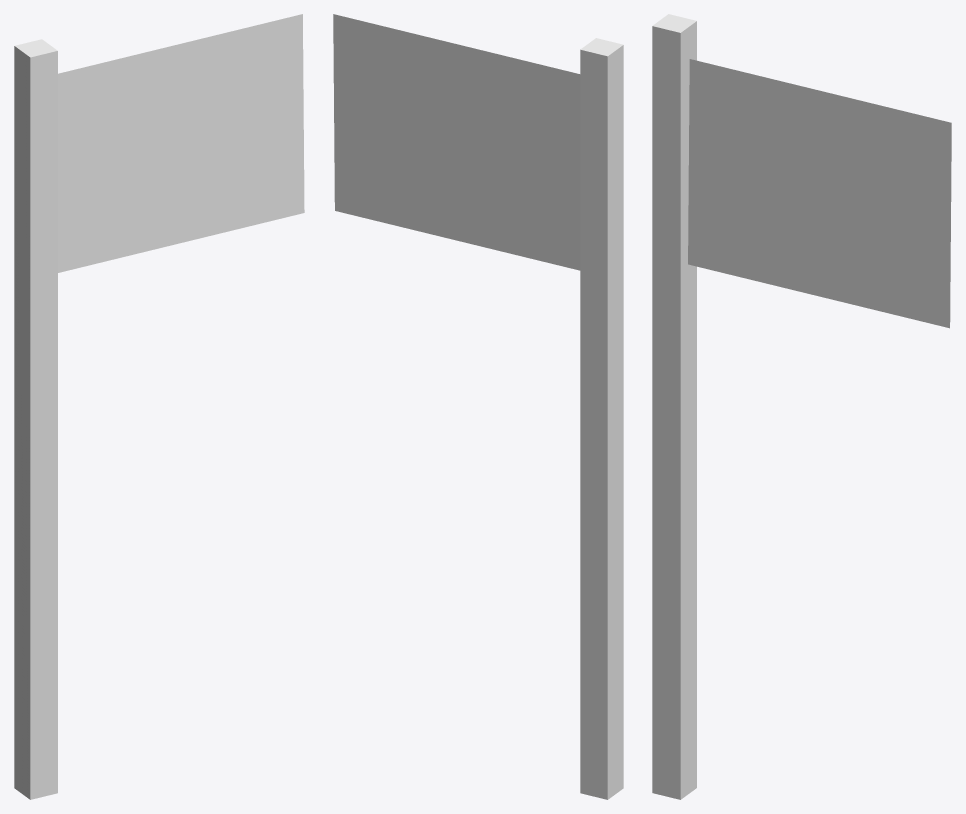
The model's file is flag.glb.
3 views of the same model, side by side, from view 1: azimuth 30°, elevation 25°; view 2: azimuth 150°, elevation 25°; view 3: azimuth 330°, elevation 25° (orthographic). The views are drawn at different scales.
Parts seen in each view (by area): view 1: Cube; view 2: Cube; view 3: Cube.
Part boxes in pixels (x1,y1,x2,y2): Cube: (14,14,304,799); Cube: (333,14,623,799); Cube: (652,14,951,799).
Size of the model in its own units: 4.04 by 10.2 by 0.3962.
Materials: 1 (1 with a texture image).
